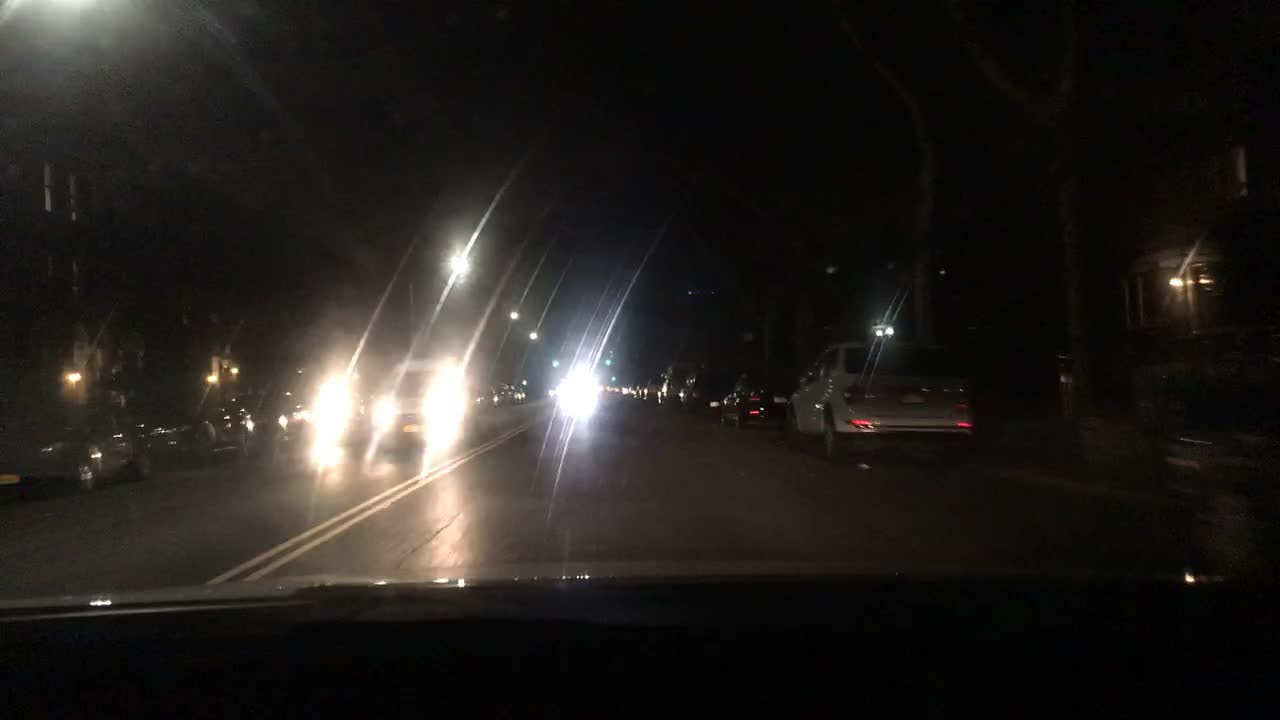car: (1161, 372, 1279, 576), (781, 339, 973, 461), (0, 389, 147, 494), (122, 381, 260, 463), (366, 353, 471, 457), (253, 376, 360, 446), (717, 373, 798, 429), (678, 374, 724, 415), (659, 364, 697, 407), (464, 381, 498, 415), (496, 382, 527, 405), (645, 380, 664, 405), (635, 381, 647, 404), (613, 387, 634, 396), (601, 387, 621, 394)
